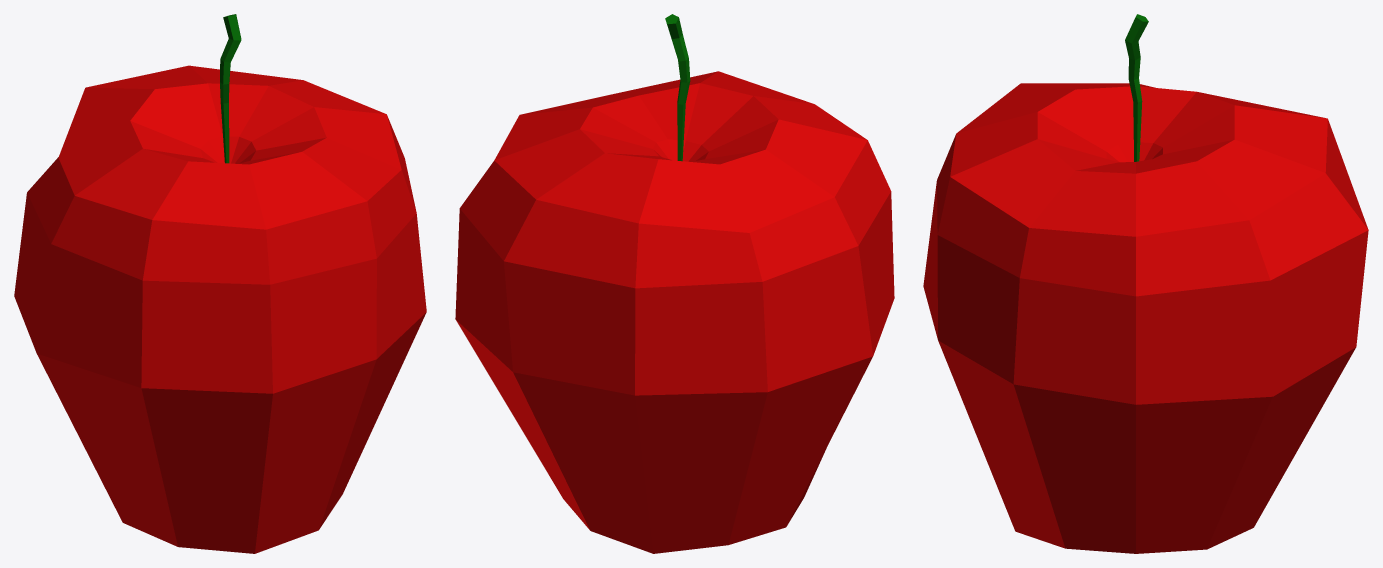
Rendered from Ingredients_Apple.fbx.
3 renders of one model, left to right at view 1: azimuth 30°, elevation 25°; view 2: azimuth 150°, elevation 25°; view 3: azimuth 270°, elevation 25°, orthographic. The views are drawn at different scales.
Parts seen in each view (by area): view 1: apple; view 2: apple; view 3: apple.
Boxes of the visible parts, x1,y1,x2,y2 form: apple: (14, 14, 426, 553); apple: (455, 14, 894, 553); apple: (923, 14, 1368, 553).
Size of the model in its own units: 6.82 by 8.67 by 6.8.
